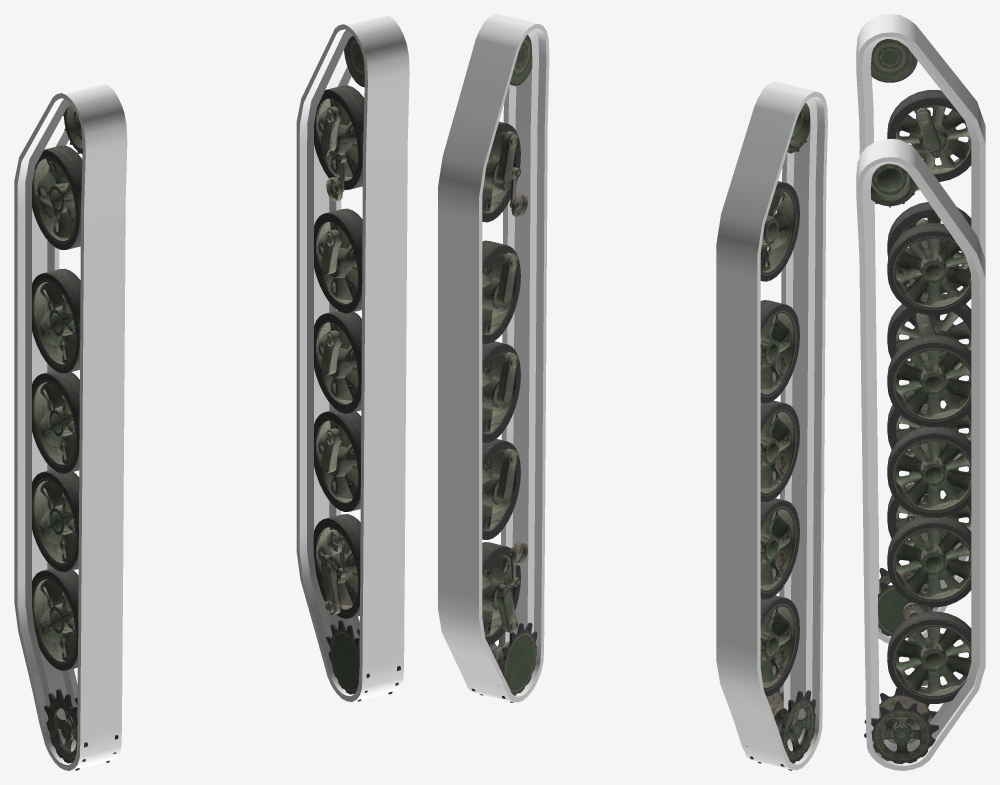
The model's file is Chassis.glb.
3 views of the same model, side by side, from view 1: azimuth 30°, elevation 25°; view 2: azimuth 150°, elevation 25°; view 3: azimuth 270°, elevation 25° (orthographic). The views are drawn at different scales.
Parts seen in each view (by area): view 1: set_1_group_0, set_0_group_0, set_3_group_0, set_2_group_0; view 2: set_1_group_0, set_0_group_0, set_3_group_0, set_2_group_0; view 3: set_3_group_0, set_0_group_0, set_2_group_0, set_1_group_0.
Boxes of the visible parts, x1,y1,x2,y2 form: set_1_group_0: (14, 83, 127, 770); set_0_group_0: (296, 14, 409, 701); set_3_group_0: (313, 36, 400, 701); set_2_group_0: (32, 105, 118, 770); set_1_group_0: (716, 82, 827, 770); set_0_group_0: (438, 14, 549, 702); set_3_group_0: (471, 35, 536, 702); set_2_group_0: (746, 103, 815, 770); set_3_group_0: (864, 163, 971, 764); set_0_group_0: (856, 139, 985, 770); set_2_group_0: (870, 39, 971, 637); set_1_group_0: (856, 14, 985, 643).
Bounding box in the file's own units: 2.77 × 5.53 × 1.06.
Materials: 4 (2 with a texture image).
